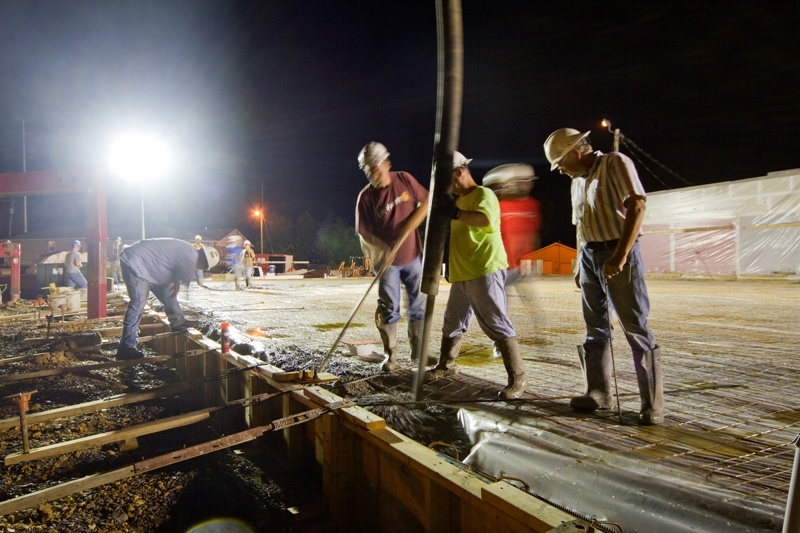blue: (70, 239, 81, 252)
white: (540, 126, 594, 179), (443, 147, 473, 195), (358, 141, 388, 185), (199, 246, 220, 271), (242, 240, 251, 249), (194, 234, 202, 244)
